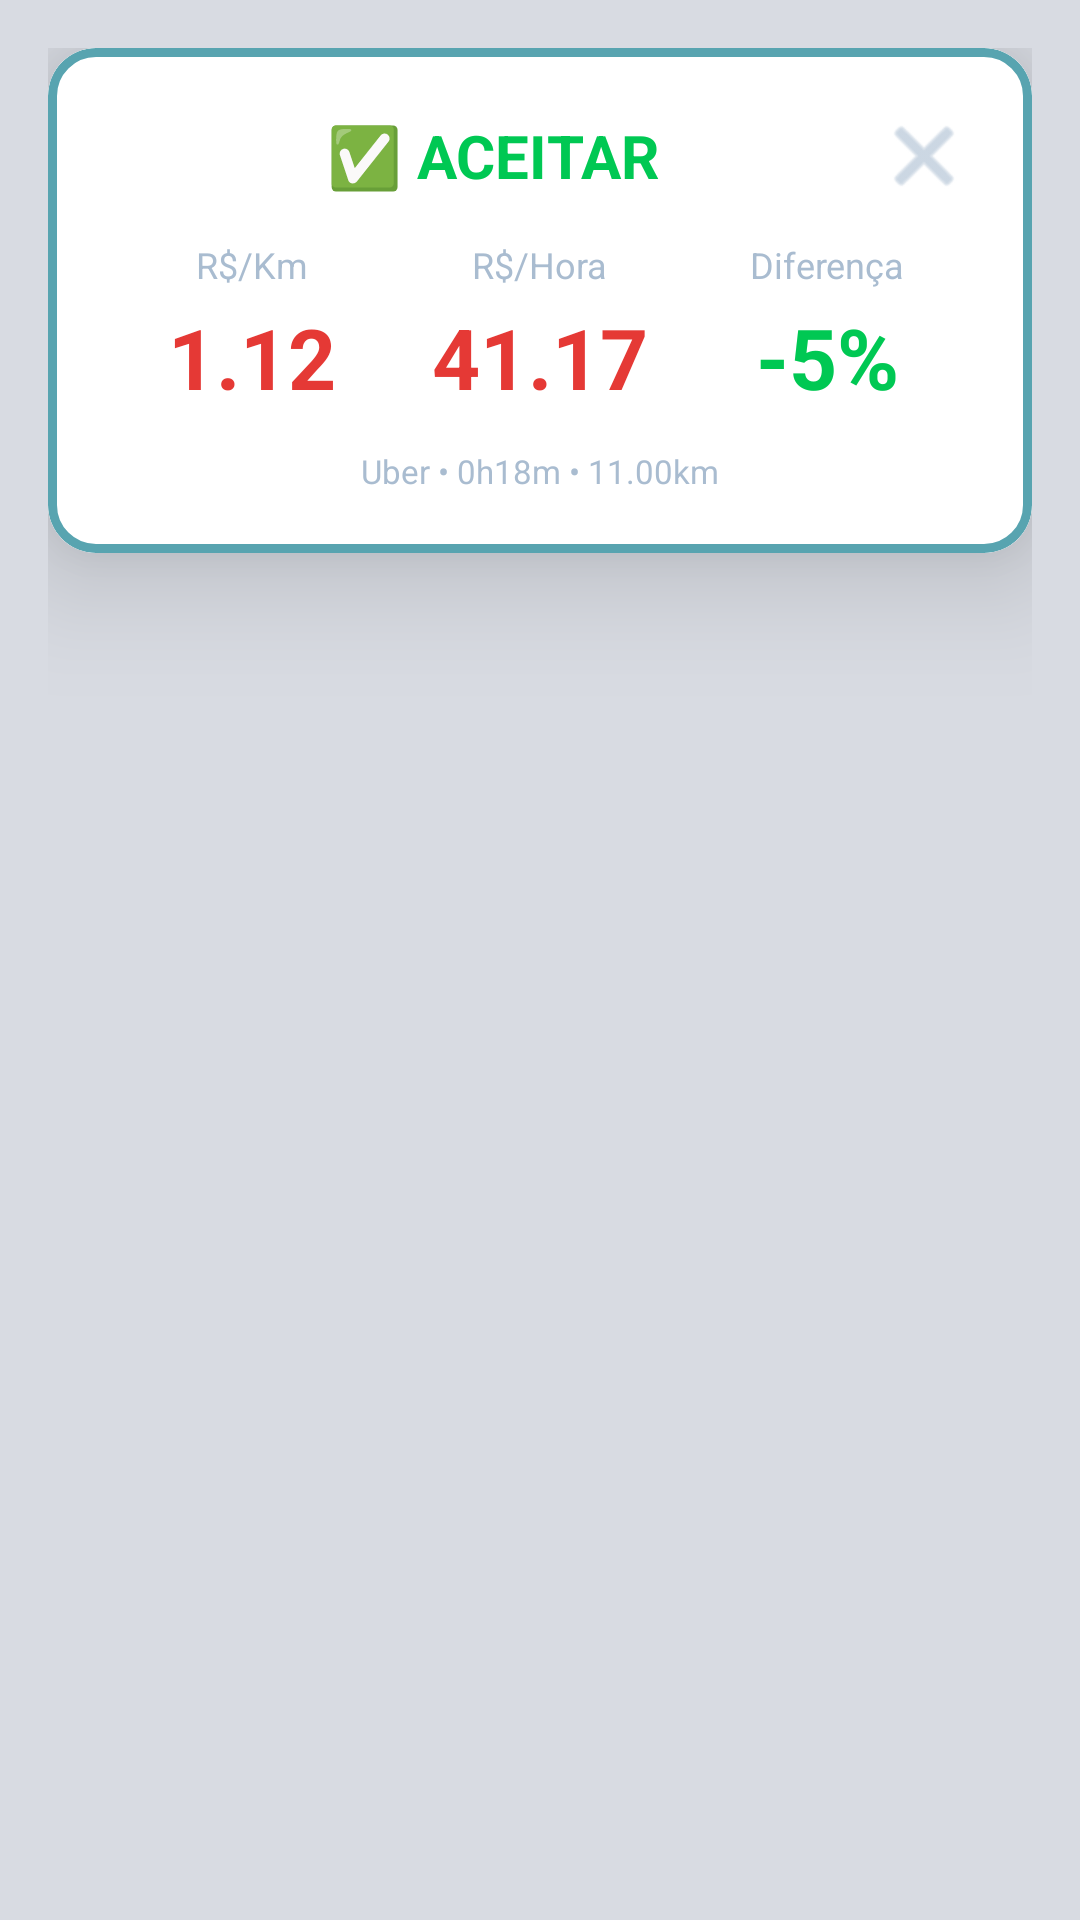

Icon bounding boxes for this 1080w x 1920h phone screenshot, format BBox(x1, y1, x2, y2):
Fechar: BBox(895, 127, 953, 185)
